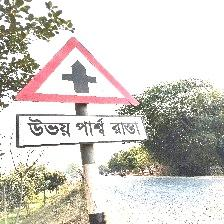Crossroad: (12, 37, 144, 149)
